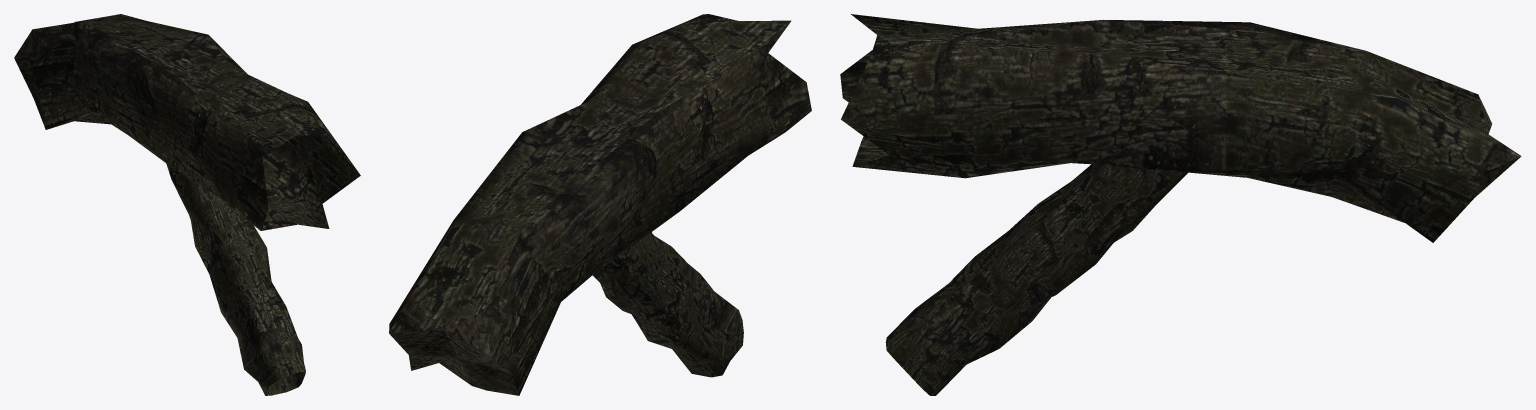
Rendered from welder_corridor_broken.dae.
3 renders of one model, left to right at view 1: azimuth 30°, elevation 25°; view 2: azimuth 150°, elevation 25°; view 3: azimuth 270°, elevation 25°, orthographic. The views are drawn at different scales.
Parts seen in each view (by area): view 1: polySurface1; view 2: polySurface1; view 3: polySurface1.
Boxes of the visible parts, box(x1,y1,x2,y2) form: polySurface1: box(14, 14, 360, 395); polySurface1: box(389, 14, 811, 395); polySurface1: box(840, 14, 1521, 395).
Bounding box in the file's own units: 0.6844 × 1.84 × 3.17.
